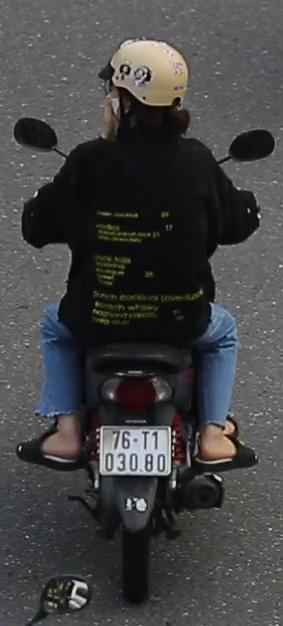LP: (94, 423, 179, 480)
helmet: (96, 33, 200, 150)
